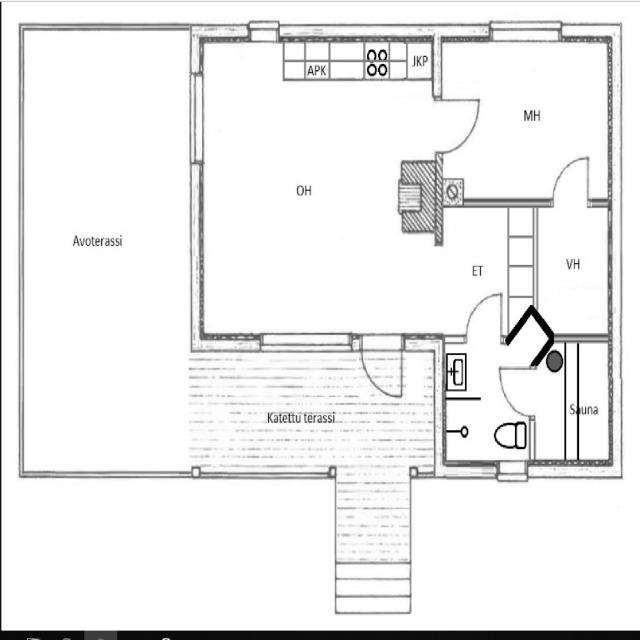door: (359, 334, 405, 404), (434, 94, 484, 155), (496, 359, 540, 422), (461, 288, 506, 348), (547, 152, 593, 209)
window: (261, 324, 353, 362), (183, 65, 210, 168), (489, 17, 563, 48), (245, 16, 282, 46), (495, 460, 532, 484), (80, 627, 121, 640)
zone: (195, 34, 436, 341), (441, 38, 612, 198), (436, 204, 538, 340), (441, 337, 534, 470), (532, 202, 612, 338), (534, 338, 613, 464)
